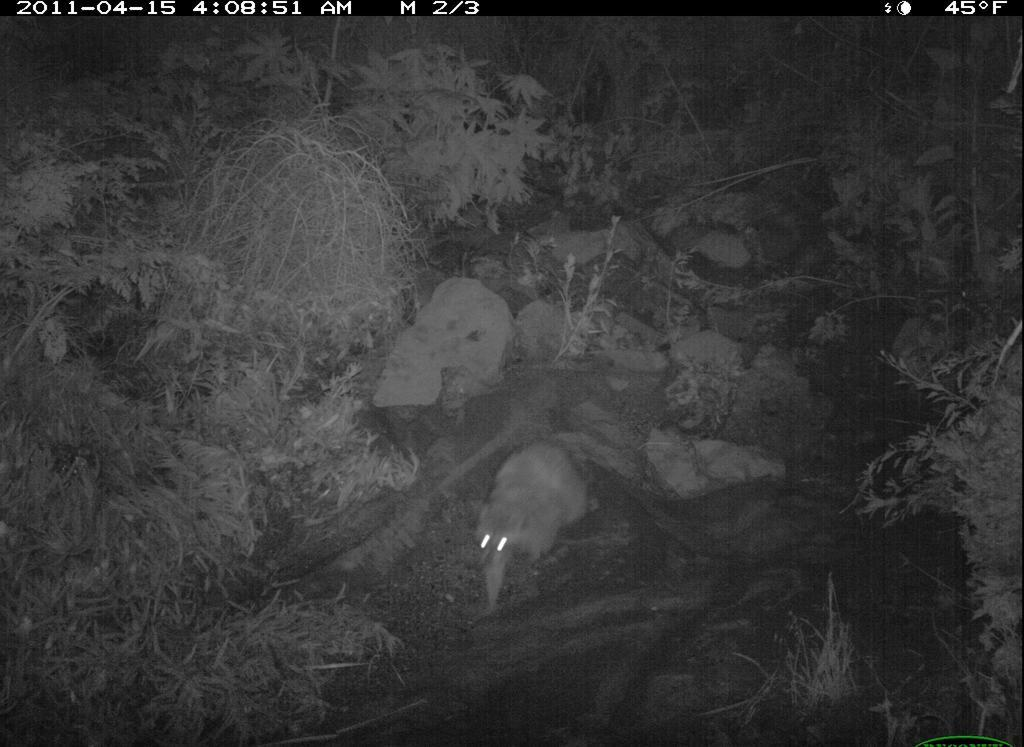raccoon: (455, 433, 603, 623)
